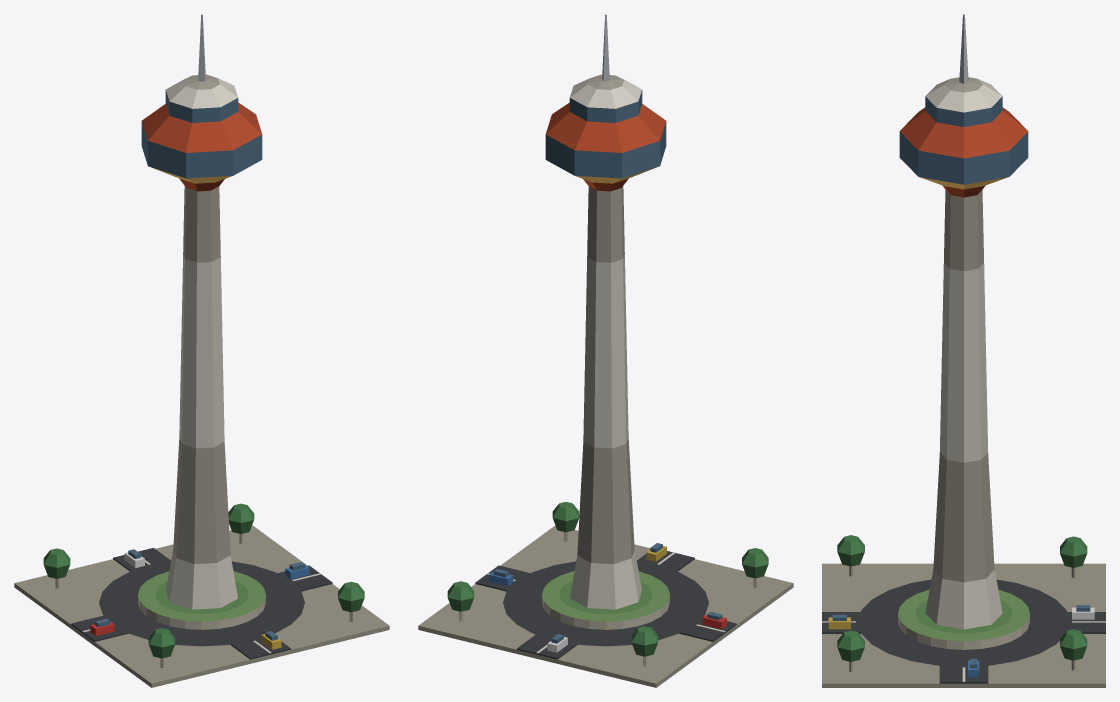
File: tourLimete.glb
The picture shows the model from 3 angles, left to right: view 1: azimuth 30°, elevation 25°; view 2: azimuth 150°, elevation 25°; view 3: azimuth 270°, elevation 25°; orthographic projection. The views are drawn at different scales.
Parts seen in each view (by area): view 1: tourLimete; view 2: tourLimete; view 3: tourLimete.
Part boxes in pixels (x1,y1,x2,y2): tourLimete: [14, 14, 389, 687]; tourLimete: [418, 14, 793, 687]; tourLimete: [822, 14, 1105, 687].
Size of the model in its own units: 1.76 by 4.2 by 1.76.
